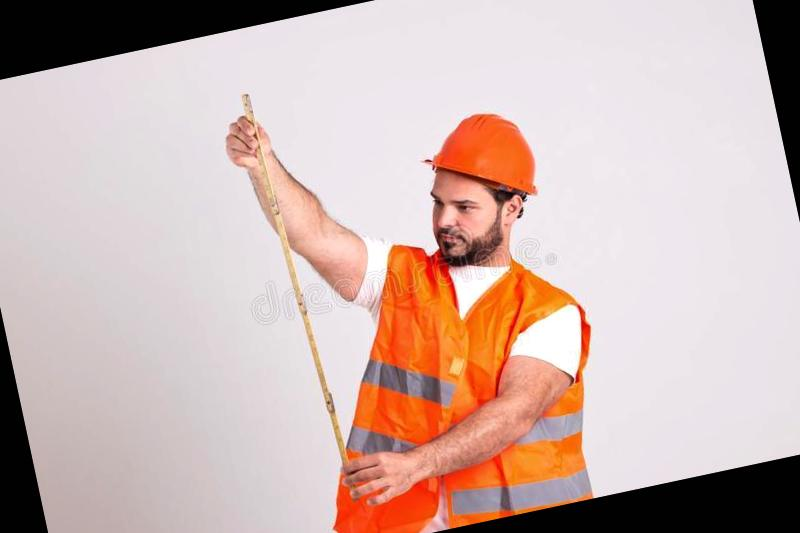helmet: (408, 99, 548, 241)
person: (245, 97, 629, 533)
